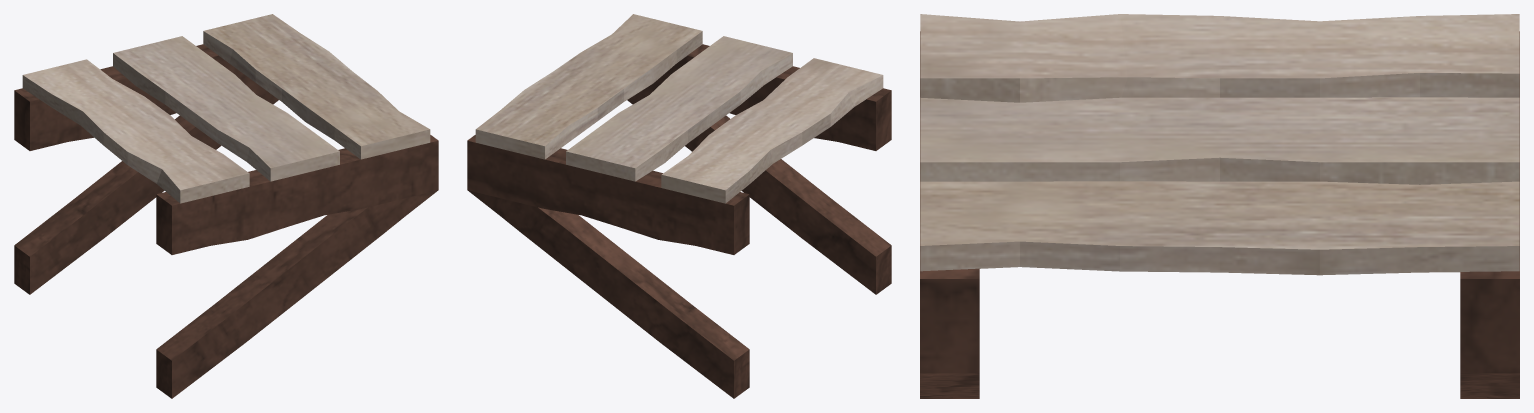
The model's file is Wooden platform.glb.
3 renders of one model, left to right at view 1: azimuth 30°, elevation 25°; view 2: azimuth 150°, elevation 25°; view 3: azimuth 270°, elevation 25°, orthographic. The views are drawn at different scales.
Parts seen in each view (by area): view 1: Cube.018, Cube.020, Cube.019; view 2: Cube.018, Cube.020, Cube.019; view 3: Cube.018, Cube.019, Cube.020.
Boxes of the visible parts, x1,y1,x2,y2 form: Cube.018: (22,14,430,203); Cube.020: (14,93,437,398); Cube.019: (14,44,438,254); Cube.018: (475,14,883,203); Cube.020: (468,93,891,398); Cube.019: (467,44,891,254); Cube.018: (920,14,1519,275); Cube.019: (920,31,1519,373); Cube.020: (920,373,1519,398).
Bounding box in the file's own units: 5.04 × 3.73 × 5.16.
1 material, 1 textured.
